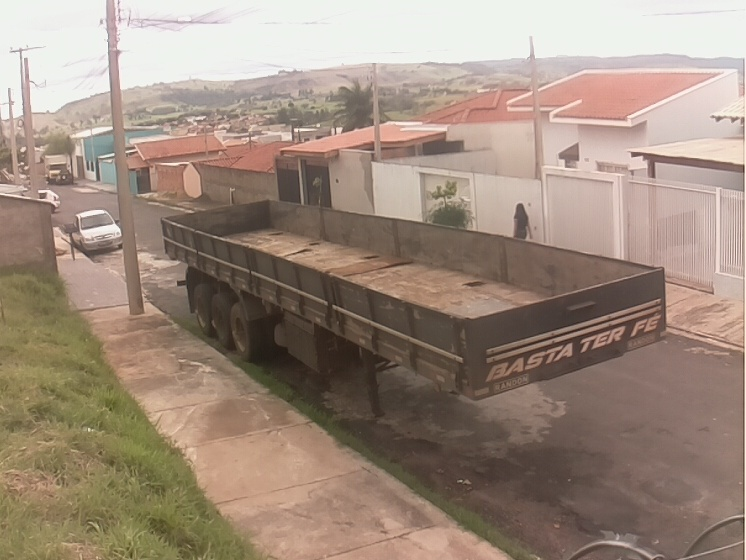person: (510, 201, 534, 241)
